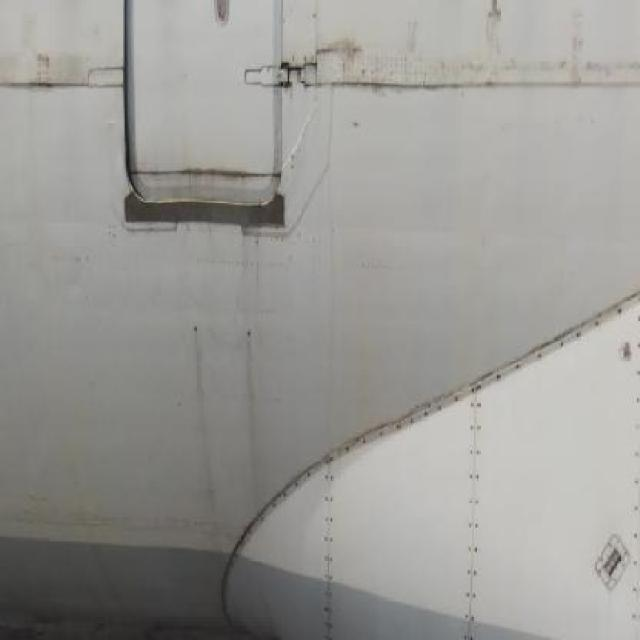Missing-Rivet: (509, 291, 617, 380), (458, 379, 494, 624), (354, 382, 452, 462), (316, 447, 346, 628)
Rust: (184, 322, 219, 483), (241, 323, 257, 468), (322, 27, 368, 71), (176, 162, 259, 184)
Scartch: (549, 10, 634, 84), (478, 4, 514, 58)
